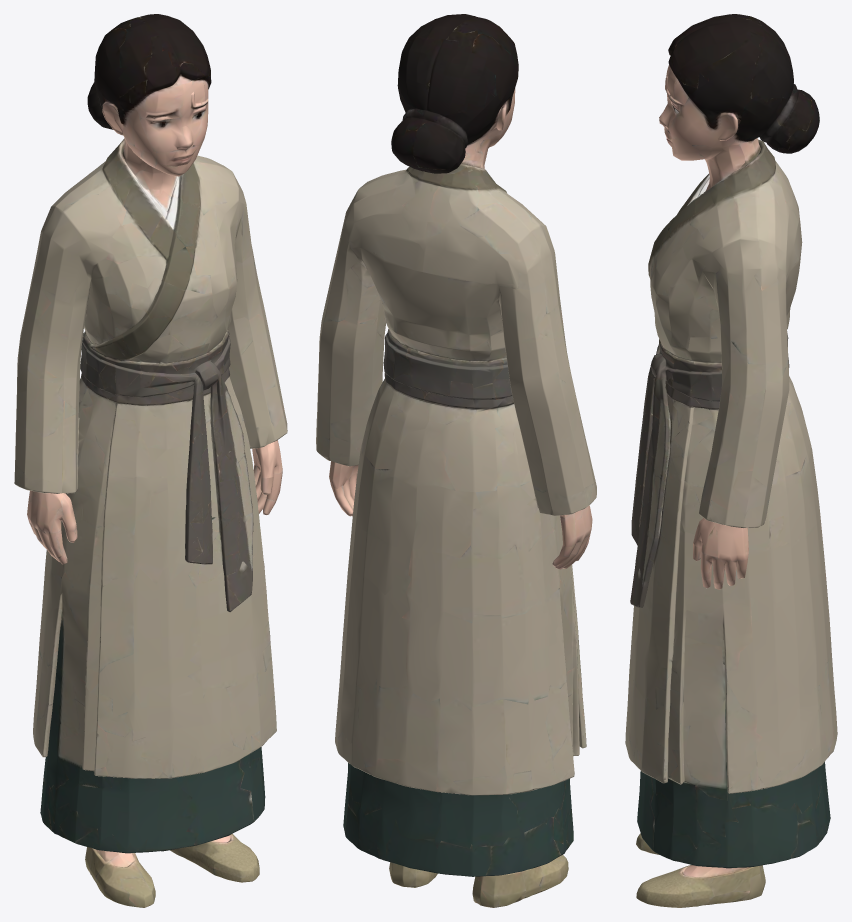
Rendered from kin.glb.
3 views of the same model, side by side, from view 1: azimuth 30°, elevation 25°; view 2: azimuth 150°, elevation 25°; view 3: azimuth 270°, elevation 25° (orthographic). The views are drawn at different scales.
Size of the model in its own units: 0.6257 by 1.9 by 0.4295.
Materials: 1 (1 with a texture image).
